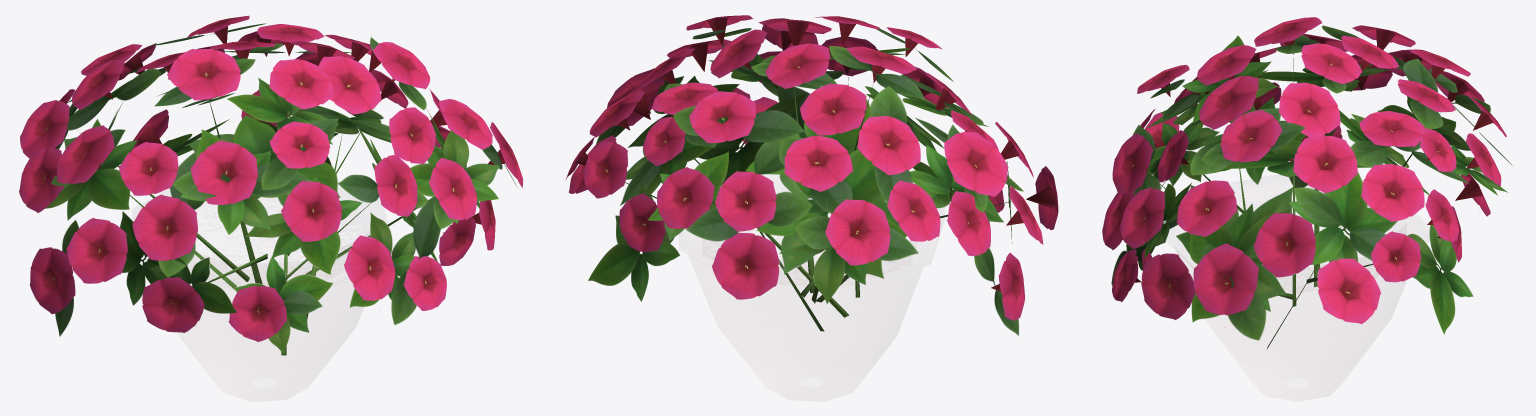
File: flower_red.glb
3 renders of one model, left to right at view 1: azimuth 30°, elevation 25°; view 2: azimuth 150°, elevation 25°; view 3: azimuth 270°, elevation 25°, orthographic. The views are drawn at different scales.
Parts seen in each view (by area): view 1: F_foliageplant_08_LOD1_01, F_foliageplant_08_LOD1_02; view 2: F_foliageplant_08_LOD1_01, F_foliageplant_08_LOD1_02; view 3: F_foliageplant_08_LOD1_01, F_foliageplant_08_LOD1_02.
Part boxes in pixels (bbox=[...]): F_foliageplant_08_LOD1_01: bbox=[19, 15, 522, 355]; F_foliageplant_08_LOD1_02: bbox=[188, 233, 369, 289]; F_foliageplant_08_LOD1_01: bbox=[566, 15, 1058, 335]; F_foliageplant_08_LOD1_02: bbox=[689, 240, 912, 285]; F_foliageplant_08_LOD1_01: bbox=[1102, 17, 1512, 348]; F_foliageplant_08_LOD1_02: bbox=[1174, 223, 1406, 293].
Size of the model in its own units: 0.5336 by 0.3856 by 0.4522.
2 materials, 2 textured.
